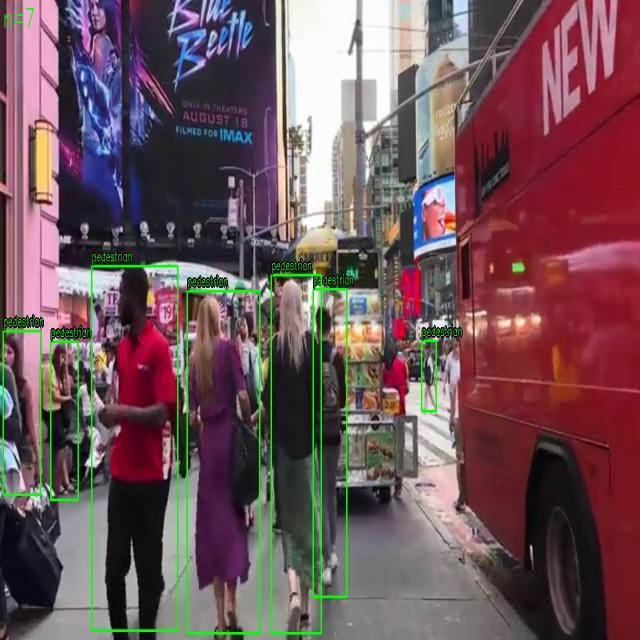person: (92, 266, 178, 632), (187, 291, 260, 634), (270, 274, 322, 634), (313, 288, 347, 598), (3, 330, 41, 496), (51, 342, 78, 501), (422, 341, 436, 412)
